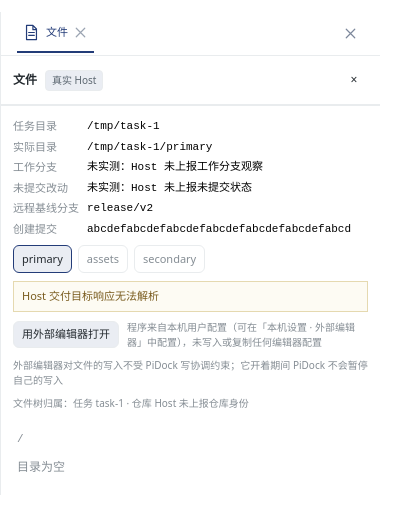
Scenario: [UI 对齐] S8d production tool dock › keeps metadata aligned with the selected root and does not invent shared-directory Git fields
Check: the text "abcdefabcdefabcdefabcdefabcdefabcdefabcd" is shown, box [87,220,368,237]
Click the button "assets" at x=103, y=259, box [78,245,128,273]
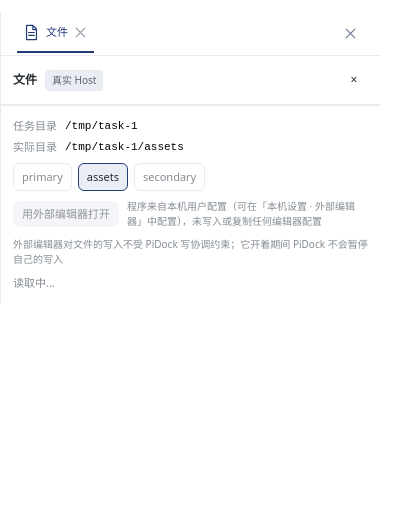
Check: the text "/tmp/task-1/assets" is shown, box [65,140,184,152]
Check: the text "创建提交" is gone
Check: the text "远程基线分支" is gone
Click the button "secondary" at x=170, y=177, box [134,163,205,191]
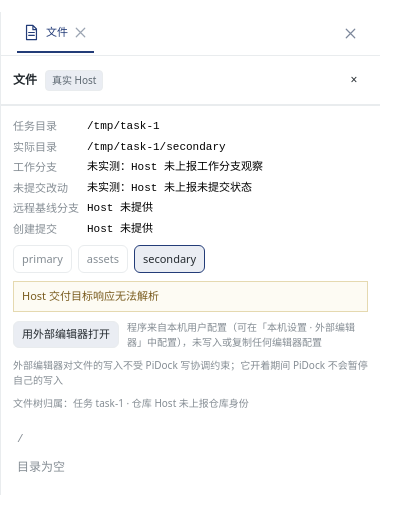
Check: the text "/tmp/task-1/secondary" is shown, box [87,140,226,152]
Check: the 1st text "Host 未提供" is shown, box [87,202,153,214]
Check: the list item "目录为空" is shown, box [17,458,65,475]
